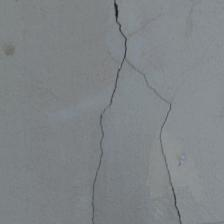Crack: (127, 59, 187, 223), (89, 3, 133, 221)
